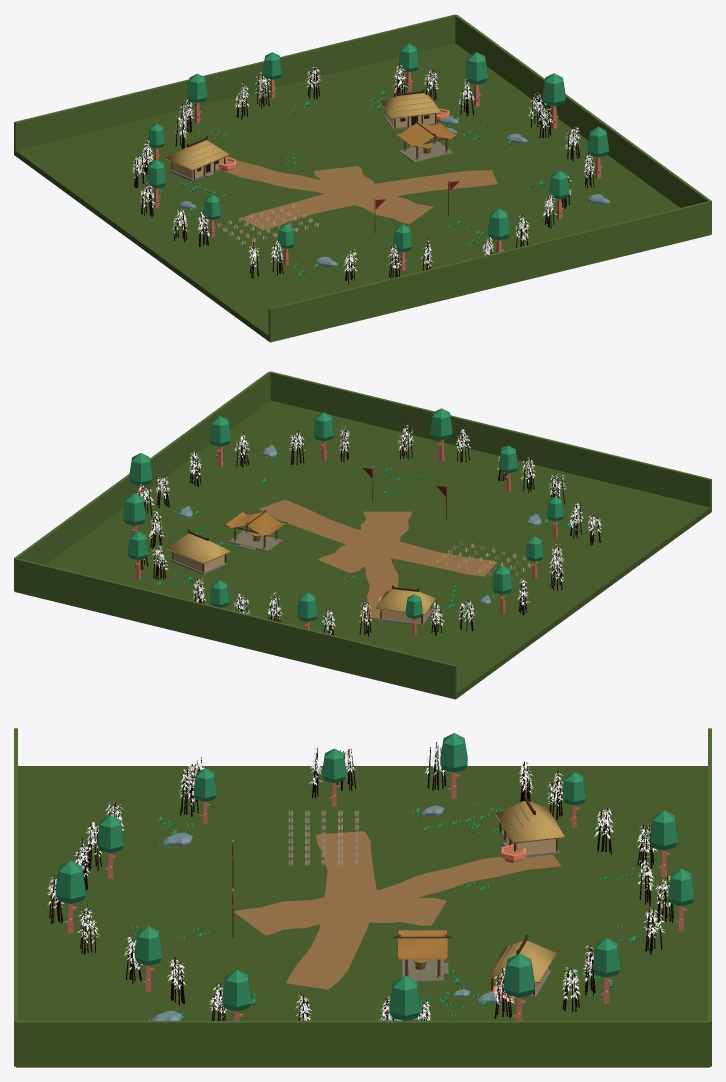
File: LangGiongTienTuyen_Environment.glb
3 renders of one model, top to bottom at view 1: azimuth 30°, elevation 25°; view 2: azimuth 150°, elevation 25°; view 3: azimuth 270°, elevation 25°, orthographic. The views are drawn at different scales.
Parts seen in each view (by area): view 1: DatLang, _MeshInstance3D_12, _MeshInstance3D_6, _MeshInstance3D_9, _MeshInstance3D_15, DuongDatUon, _MeshInstance3D_16, Roof, Roof2, tree_default_dark2, SweepingOchreRoof, tree_default_dark14 (+9 smaller); view 2: DatLang, _MeshInstance3D_6, _MeshInstance3D_12, _MeshInstance3D_9, _MeshInstance3D_15, DuongDatUon, _MeshInstance3D_16, Roof, Roof2, SweepingOchreRoof, tree_default_dark5, tree_default_dark2 (+8 smaller); view 3: DatLang, _MeshInstance3D_9, _MeshInstance3D_15, DuongDatUon, _MeshInstance3D_16, Roof2, SweepingOchreRoof, tree_default_dark14, tree_default_dark5, _MeshInstance3D_6, _MeshInstance3D_12, Roof (+12 smaller).
Boxes of the visible parts, bbox=[...] form: DatLang: bbox=[14, 43, 679, 341]; _MeshInstance3D_12: bbox=[268, 201, 711, 342]; _MeshInstance3D_6: bbox=[14, 14, 455, 154]; _MeshInstance3D_9: bbox=[455, 14, 711, 233]; _MeshInstance3D_15: bbox=[240, 170, 497, 230]; DuongDatUon: bbox=[314, 166, 433, 224]; _MeshInstance3D_16: bbox=[221, 156, 397, 198]; Roof: bbox=[380, 93, 440, 118]; Roof2: bbox=[165, 140, 229, 170]; tree_default_dark2: bbox=[542, 73, 565, 128]; SweepingOchreRoof: bbox=[395, 123, 456, 146]; tree_default_dark14: bbox=[465, 52, 487, 106]; DatLang: bbox=[46, 400, 711, 698]; _MeshInstance3D_6: bbox=[14, 558, 457, 699]; _MeshInstance3D_12: bbox=[270, 371, 711, 512]; _MeshInstance3D_9: bbox=[14, 371, 270, 590]; _MeshInstance3D_15: bbox=[259, 499, 497, 576]; DuongDatUon: bbox=[318, 511, 411, 573]; _MeshInstance3D_16: bbox=[357, 551, 398, 618]; Roof: bbox=[166, 533, 230, 564]; Roof2: bbox=[375, 589, 435, 614]; SweepingOchreRoof: bbox=[225, 512, 286, 535]; tree_default_dark5: bbox=[430, 408, 452, 461]; tree_default_dark2: bbox=[129, 453, 152, 500]; DatLang: bbox=[18, 766, 707, 1020]; _MeshInstance3D_9: bbox=[16, 1021, 709, 1067]; _MeshInstance3D_15: bbox=[286, 831, 376, 989]; DuongDatUon: bbox=[233, 895, 446, 935]; _MeshInstance3D_16: bbox=[322, 854, 561, 931]; Roof2: bbox=[495, 801, 564, 843]; SweepingOchreRoof: bbox=[398, 930, 447, 959]; tree_default_dark14: bbox=[503, 953, 534, 1020]; tree_default_dark5: bbox=[55, 860, 85, 933]; _MeshInstance3D_6: bbox=[708, 728, 711, 1066]; _MeshInstance3D_12: bbox=[14, 728, 17, 1066]; Roof: bbox=[487, 940, 556, 983].
Size of the model in its own units: 84.25 by 10.92 by 84.5.
